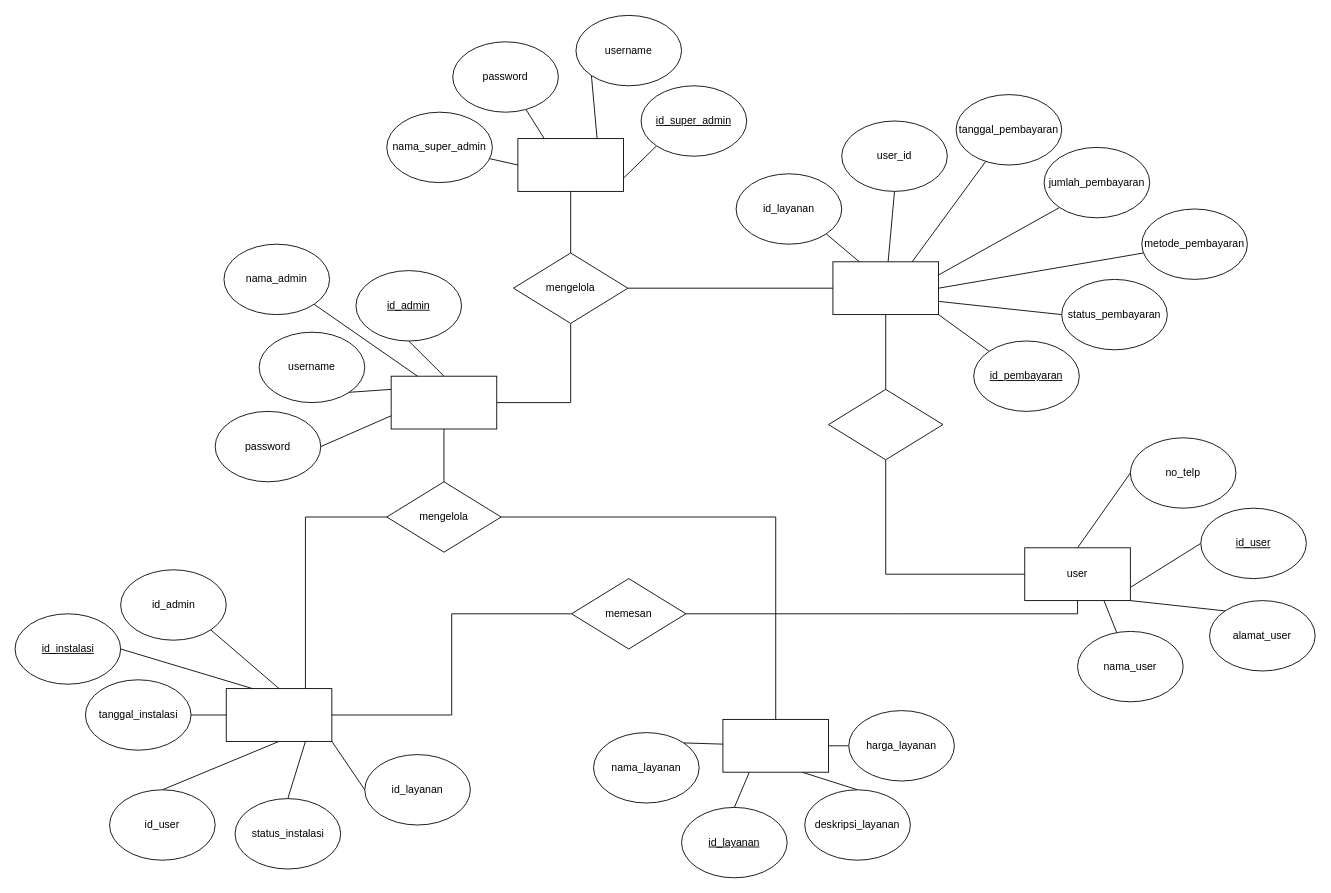
Some shapes in this 1331 by 893 pixel diagram are drawn without their labels. Each missing label, with the centre of its shape:
"admin" belongs at point (443, 402).
"instalasi" belongs at point (278, 714).
"layanan" belongs at point (775, 745).
"melakukan" belongs at point (885, 424).
"pembayaran" belongs at point (885, 288).
"super_admin" belongs at point (570, 164).
